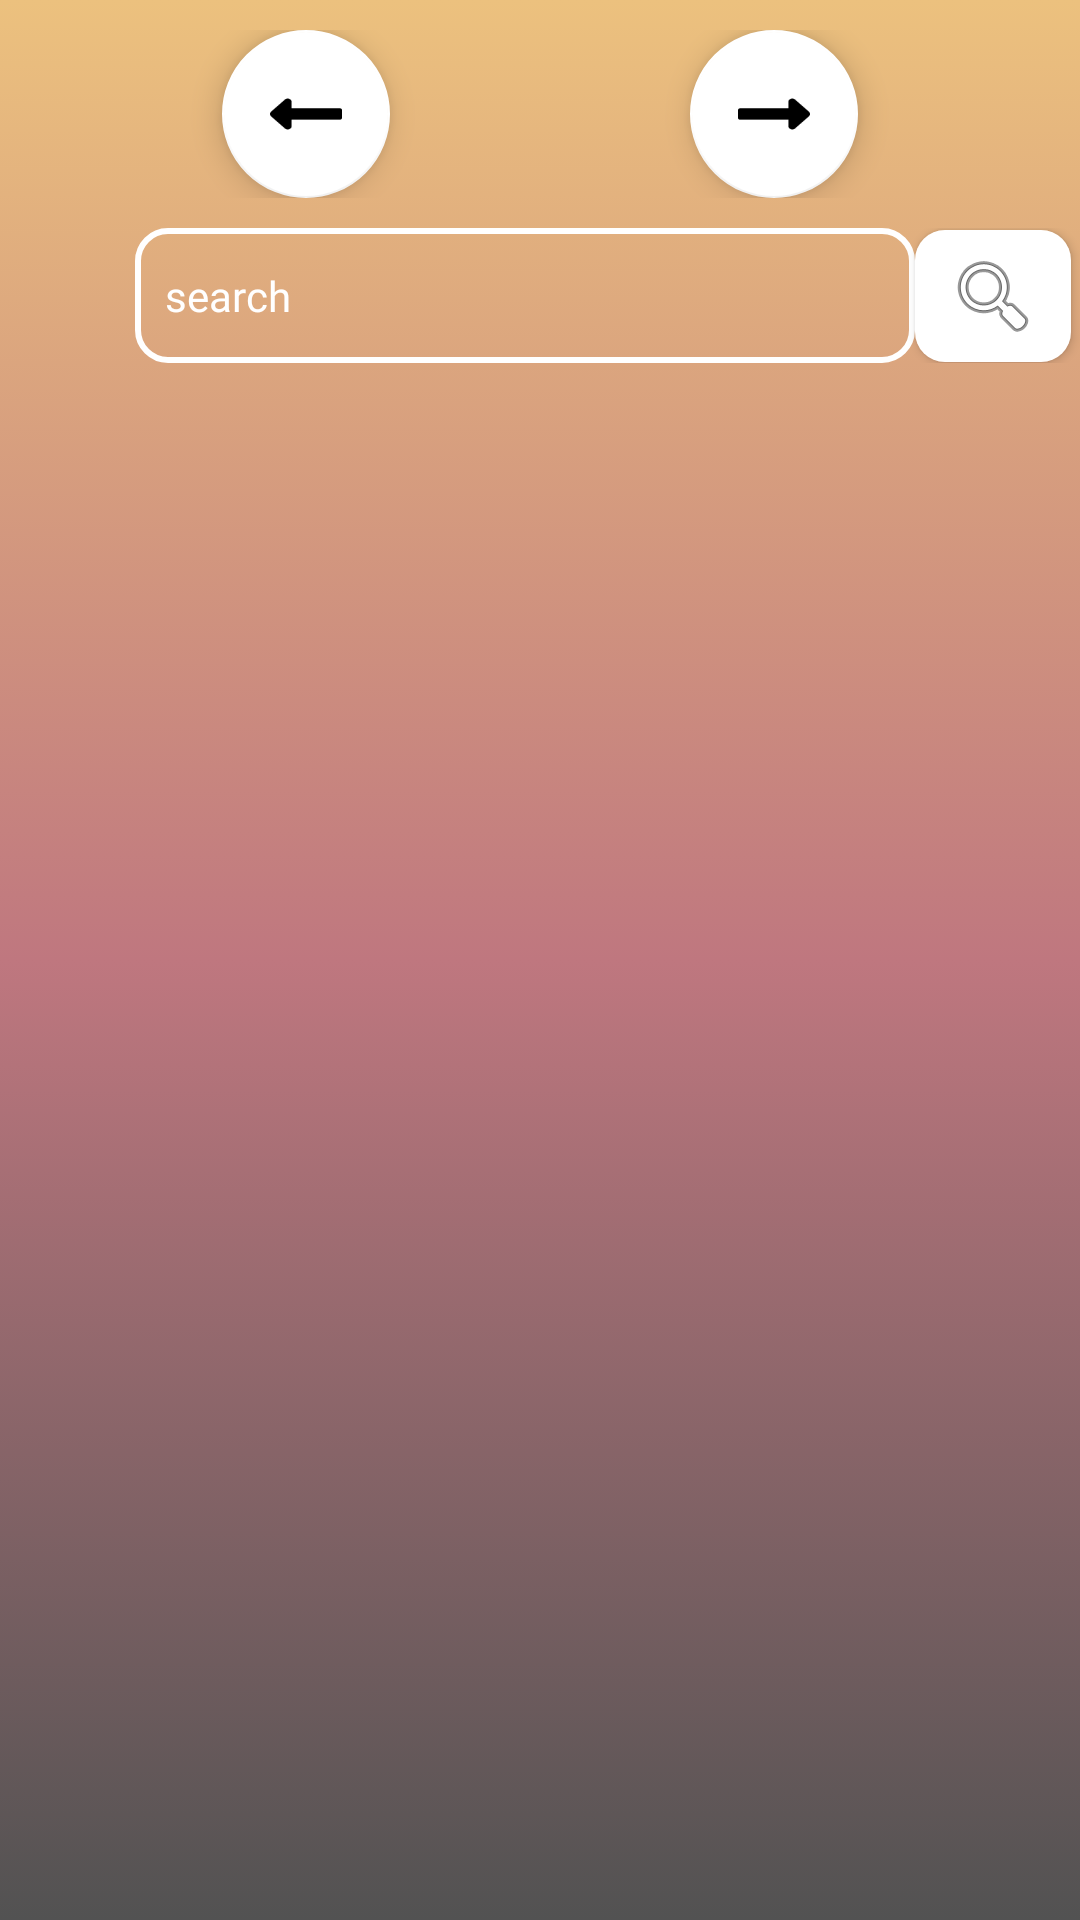

Icon bounding boxes for this 1080*1920 phone screenshot, format bbox(x1, y1, x2, y2):
backpage: bbox(222, 30, 390, 198)
nextpage: bbox(690, 30, 858, 198)
